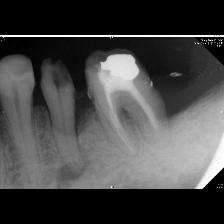apical_lesion: (41, 57, 95, 189)
